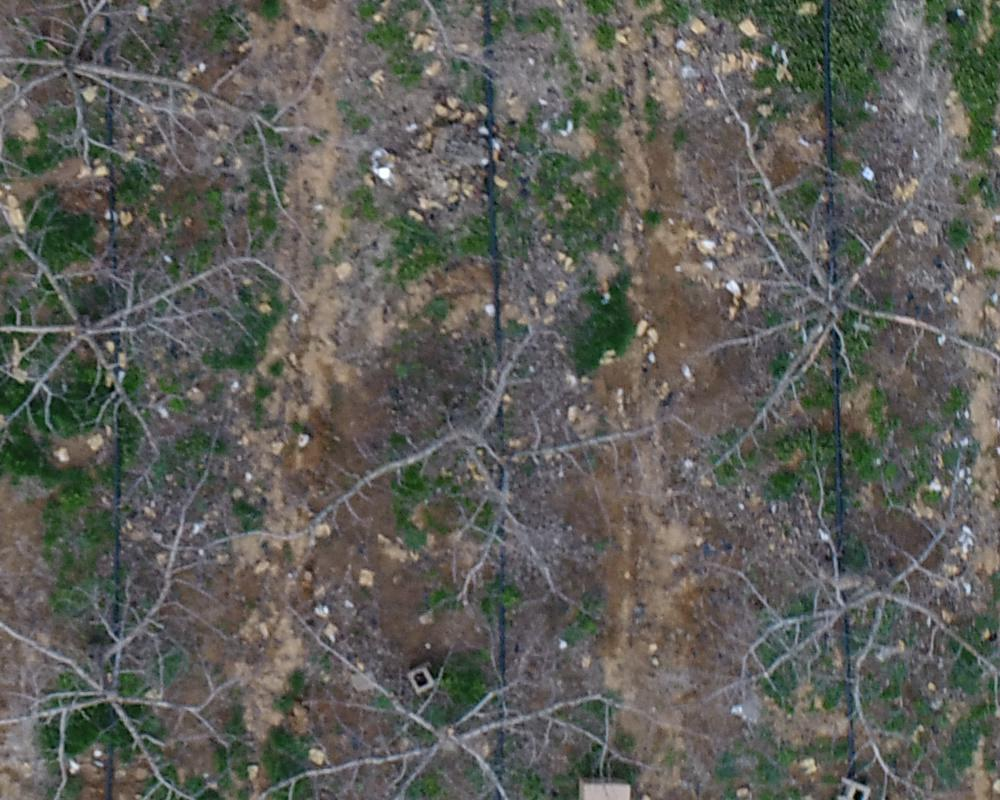apple: (681, 71, 990, 467), (315, 304, 663, 613), (715, 442, 990, 785), (10, 185, 290, 466), (10, 458, 241, 790), (239, 636, 684, 790), (10, 10, 324, 194)
